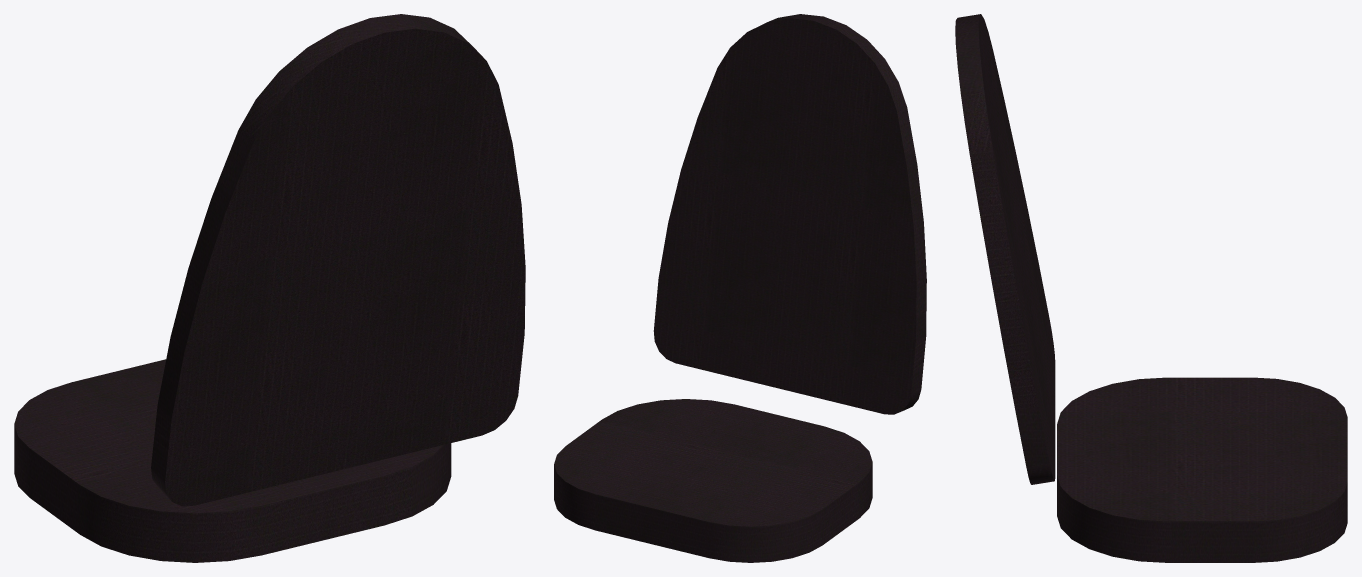
File: ADSK_14.obj
3 renders of one model, left to right at view 1: azimuth 30°, elevation 25°; view 2: azimuth 150°, elevation 25°; view 3: azimuth 270°, elevation 25°, orthographic. The views are drawn at different scales.
Bounding box in the file's own units: 0.5461 × 0.8227 × 0.6293.
1 material, 1 textured.
